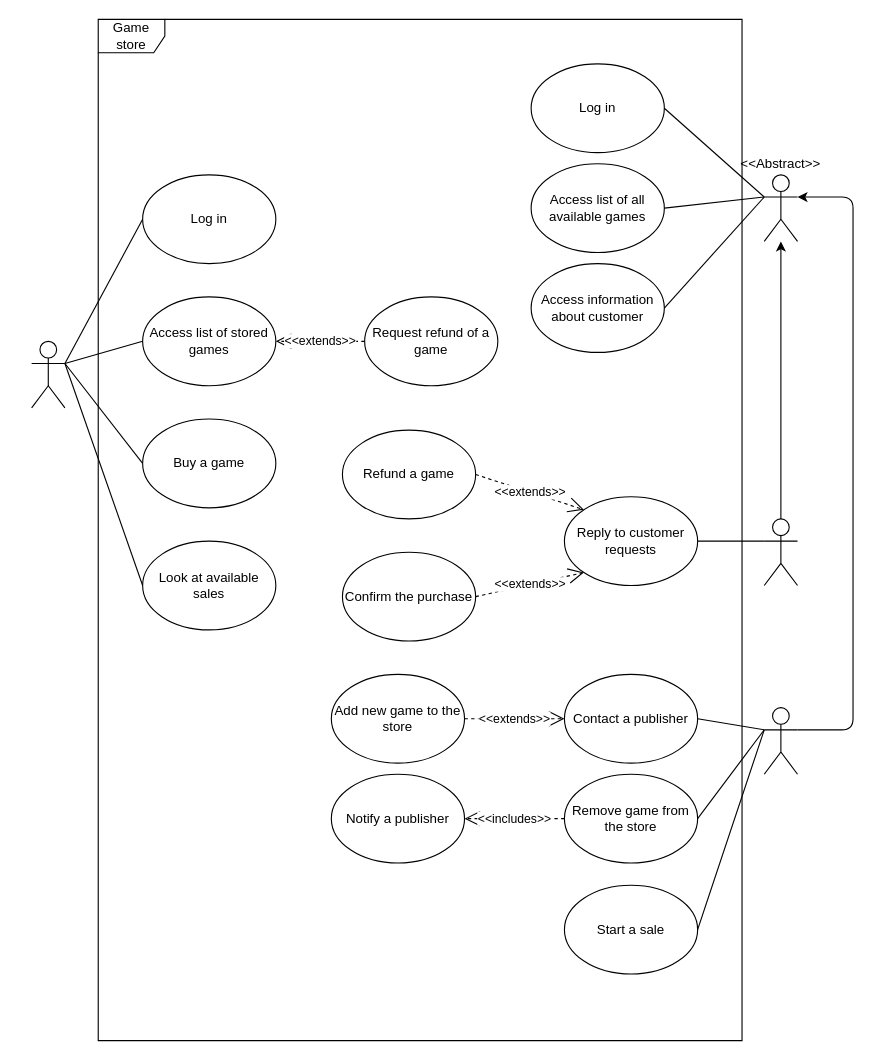
This 881x1060 diagram has some shape labels left out. The centre of each missing label's shape, as x and y in pixels:
Customer: point 48,374
Customer support: point 780,552
Employee: point 780,207
Manager: point 780,740
